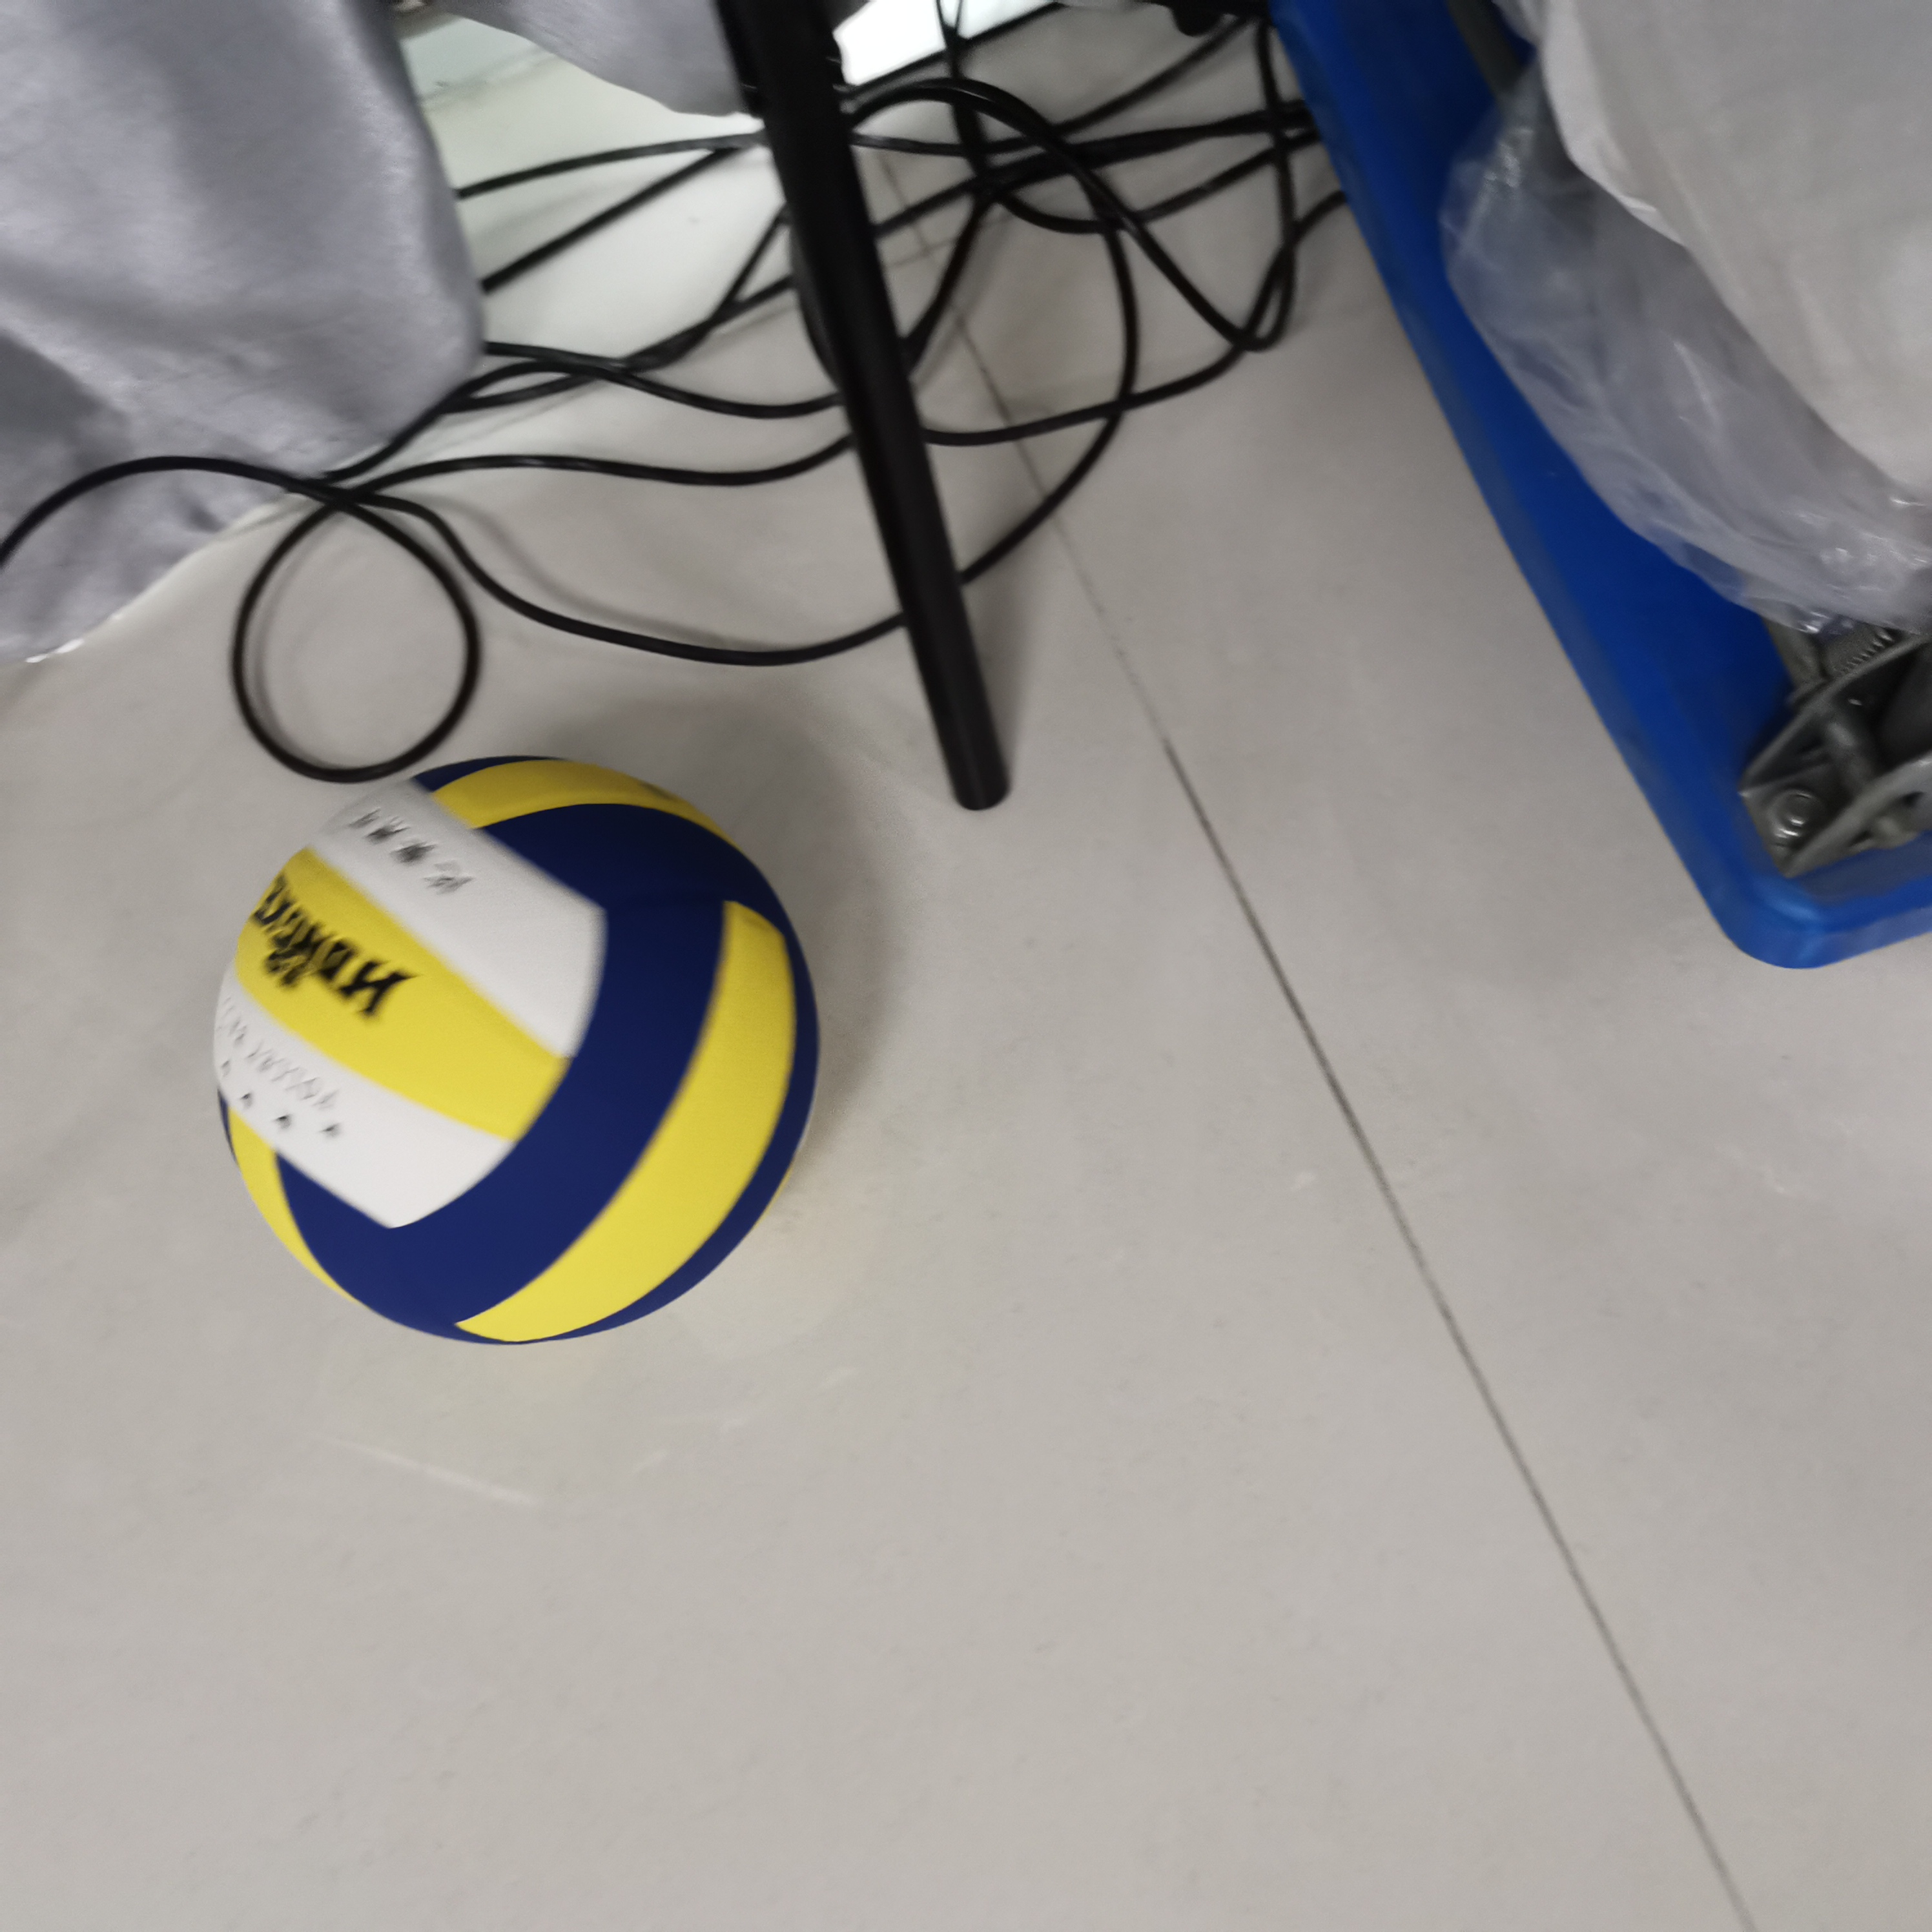volleyball: (203, 754, 823, 1350)
